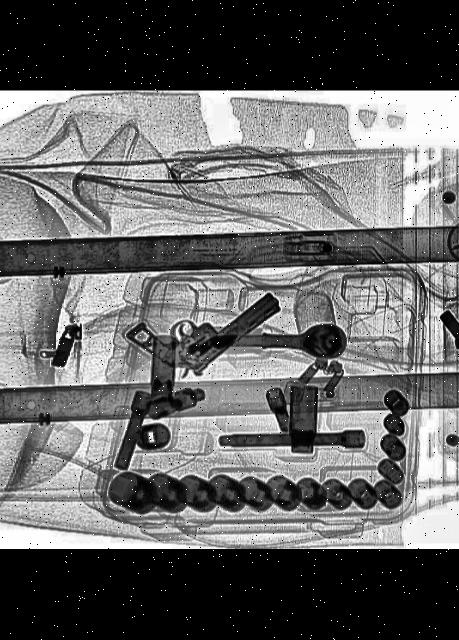Gun: (121, 257, 282, 384)
